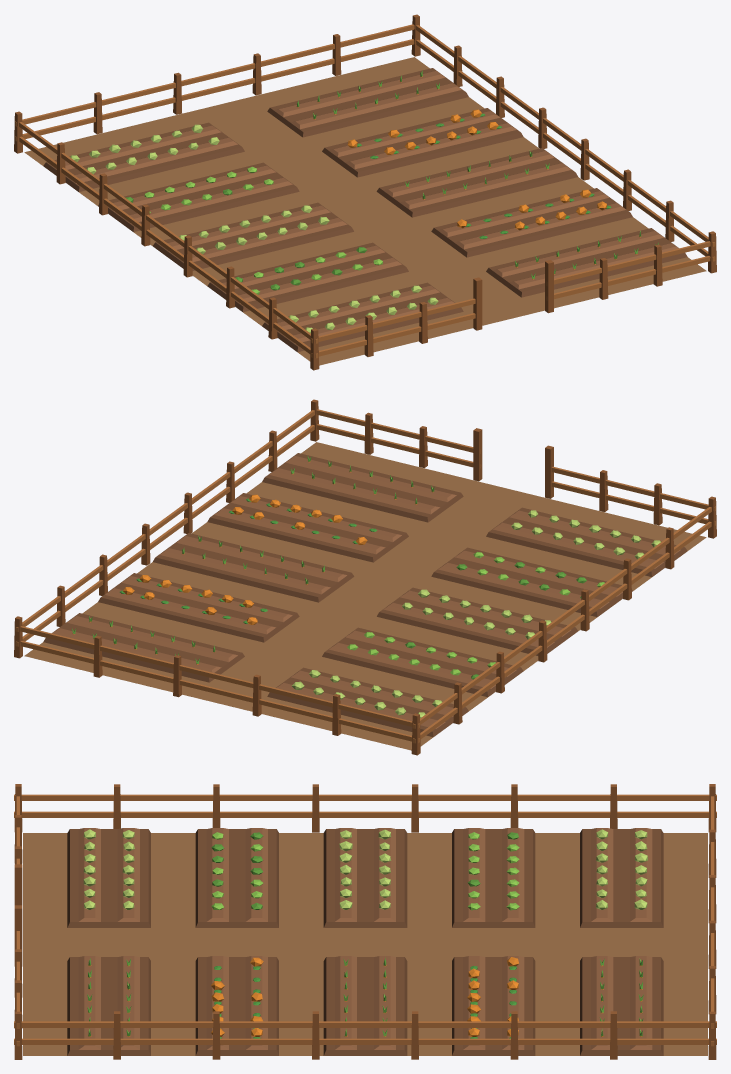
File: prop-cottage-field.glb
3 renders of one model, top to bottom at view 1: azimuth 30°, elevation 25°; view 2: azimuth 150°, elevation 25°; view 3: azimuth 270°, elevation 25°, orthographic. The views are drawn at different scales.
Parts seen in each view (by area): view 1: FarmField; view 2: FarmField; view 3: FarmField.
Boxes of the visible parts, left/top/right/bottom form: FarmField: left=14, top=14, right=716, bottom=370; FarmField: left=14, top=399, right=716, bottom=755; FarmField: left=14, top=784, right=716, bottom=1059.
Size of the model in its own units: 9.8 by 1.15 by 12.62.
